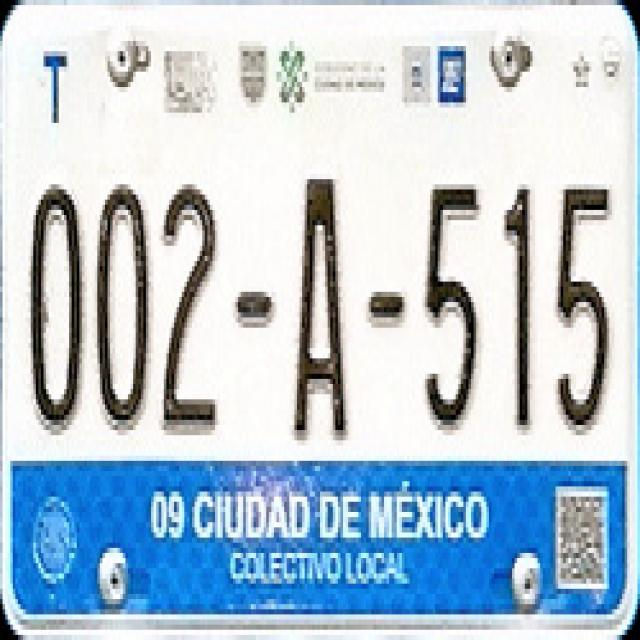placa: (12, 136, 619, 434)
